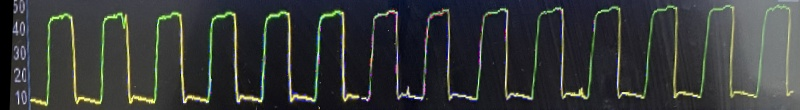normal_pressure: (23, 0, 799, 110)
